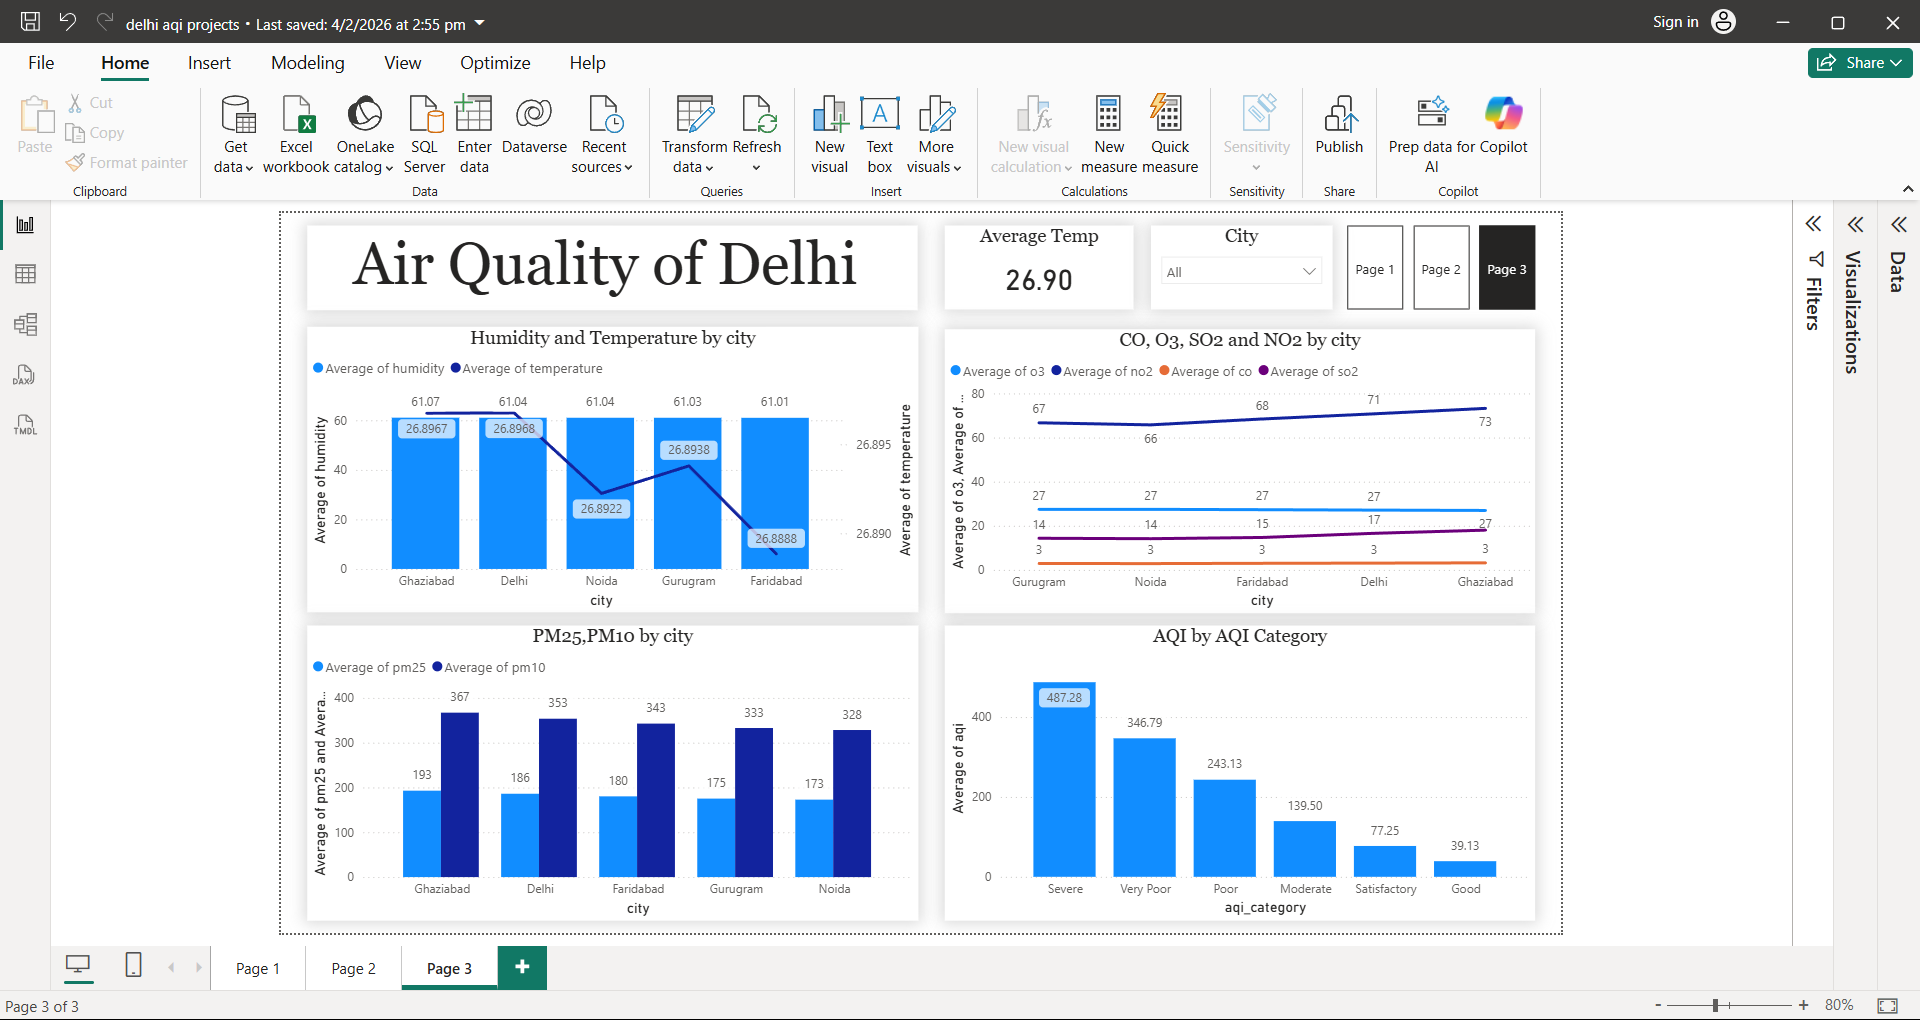

What the dashboard file says about the page in this screenshot:
{"tool":"powerbi","page":{"name":"Page 3","canvas":[1280,720],"ordinal":2},"visuals":[{"type":"card","title":"Average Temp ","fields":{"Values":["delhi_ncr_aqi_dataset.Average Temperature"]},"box":[664.1,12.5,189.1,84.4],"z":0},{"type":"pageNavigator","box":[1065.6,12.5,189.1,84.4],"z":1000},{"type":"slicer","title":"City","fields":{"Values":["delhi_ncr_aqi_dataset.city"]},"box":[870.3,12.5,181.2,84.4],"z":2000},{"type":"textbox","box":[26.9,11.9,610.4,85.1],"z":3000},{"type":"lineClusteredColumnComboChart","title":"Humidity and Temperature by city","fields":{"Category":["delhi_ncr_aqi_dataset.city"],"Y":["Avg(delhi_ncr_aqi_dataset.humidity)"],"Y2":["Avg(delhi_ncr_aqi_dataset.temperature)"]},"box":[26.6,114.1,610.9,285.9],"z":4000},{"type":"lineChart","title":"CO, O3, SO2 and NO2 by city","fields":{"Y":["Avg(delhi_ncr_aqi_dataset.o3)","Avg(delhi_ncr_aqi_dataset.no2)","Avg(delhi_ncr_aqi_dataset.co)","Avg(delhi_ncr_aqi_dataset.so2)"],"Category":["delhi_ncr_aqi_dataset.city"]},"box":[664.1,115.6,590.6,284.4],"z":5000},{"type":"lineClusteredColumnComboChart","title":"PM25,PM10  by city","fields":{"Category":["delhi_ncr_aqi_dataset.city"],"Y":["Avg(delhi_ncr_aqi_dataset.pm25)","Avg(delhi_ncr_aqi_dataset.pm10)"]},"box":[26.6,412.5,610.9,295.3],"z":6000},{"type":"lineClusteredColumnComboChart","title":"AQI by AQI Category ","fields":{"Category":["delhi_ncr_aqi_dataset.aqi_category"],"Y":["Avg(delhi_ncr_aqi_dataset.aqi)"]},"box":[664.1,412.5,590.6,295.3],"z":7000}]}

Visuals, with their boxes on the page's 1280x720 design canvas (x1, y1, x2, y2). These are canvas units, not pixel positions in the 1920x1020 screenshot, which may show the page scaled, cropped or inside an application window:
"Average Temp " card: box(664, 12, 853, 97)
pageNavigator: box(1066, 12, 1255, 97)
"City" slicer: box(870, 12, 1052, 97)
textbox: box(27, 12, 637, 97)
"Humidity and Temperature by city" lineClusteredColumnComboChart: box(27, 114, 638, 400)
"CO, O3, SO2 and NO2 by city" lineChart: box(664, 116, 1255, 400)
"PM25,PM10  by city" lineClusteredColumnComboChart: box(27, 412, 638, 708)
"AQI by AQI Category " lineClusteredColumnComboChart: box(664, 412, 1255, 708)
